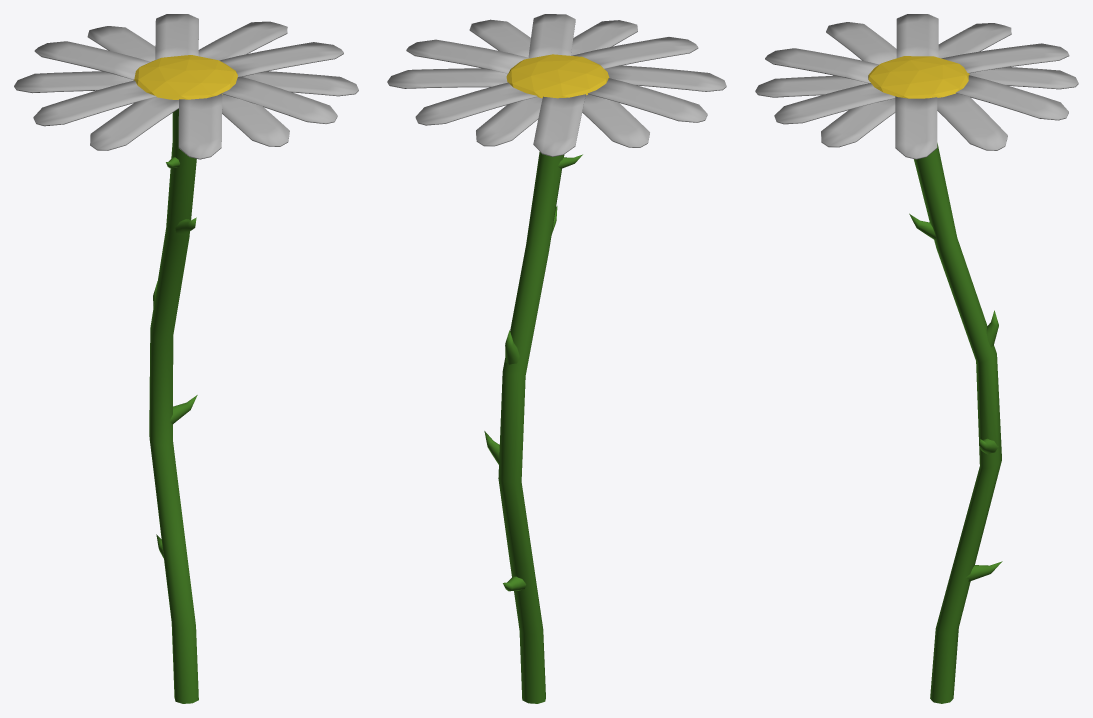
File: AntonioCenarioFase1.fbx_FlorBranca.fbx
The picture shows the model from 3 angles, left to right: view 1: azimuth 30°, elevation 25°; view 2: azimuth 150°, elevation 25°; view 3: azimuth 270°, elevation 25°; orthographic projection. The views are drawn at different scales.
Parts seen in each view (by area): view 1: FlorBranca; view 2: FlorBranca; view 3: FlorBranca.
Boxes of the visible parts, left/top/right/bottom form: FlorBranca: left=14, top=14, right=358, bottom=703; FlorBranca: left=387, top=14, right=726, bottom=703; FlorBranca: left=755, top=14, right=1078, bottom=703.
Bounding box in the file's own units: 142 × 286 × 135.
